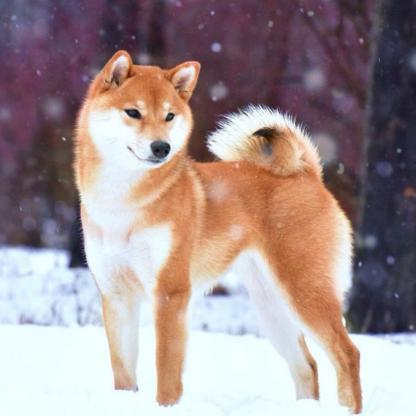Siba-ny: (68, 49, 369, 416)
